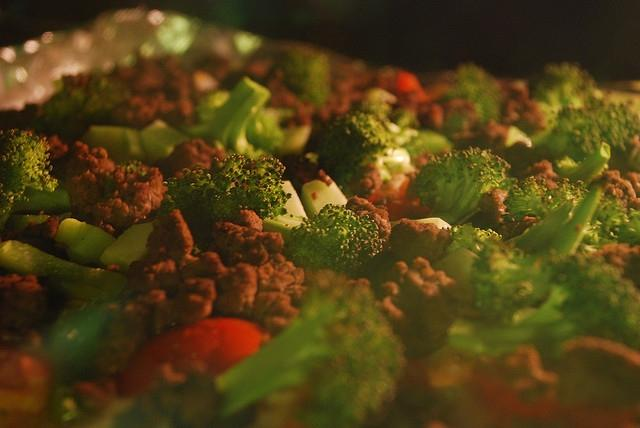broccoli: (212, 268, 408, 428), (447, 254, 632, 364), (162, 153, 292, 254), (317, 110, 455, 199), (40, 302, 152, 388), (262, 202, 386, 278), (470, 234, 574, 323), (412, 146, 520, 224), (0, 240, 127, 302), (510, 184, 602, 268), (180, 77, 269, 162), (500, 175, 624, 233), (114, 368, 228, 422), (1, 128, 58, 219), (436, 62, 504, 131), (529, 104, 601, 162), (268, 47, 332, 110), (529, 63, 604, 112), (504, 198, 574, 250), (27, 89, 87, 146), (585, 90, 640, 152), (53, 218, 117, 270), (77, 78, 131, 134), (98, 224, 154, 272), (138, 118, 191, 166), (443, 222, 502, 258), (355, 88, 397, 120)
tomato: (122, 317, 268, 404), (1, 354, 55, 423), (367, 176, 431, 222), (374, 64, 429, 104)
